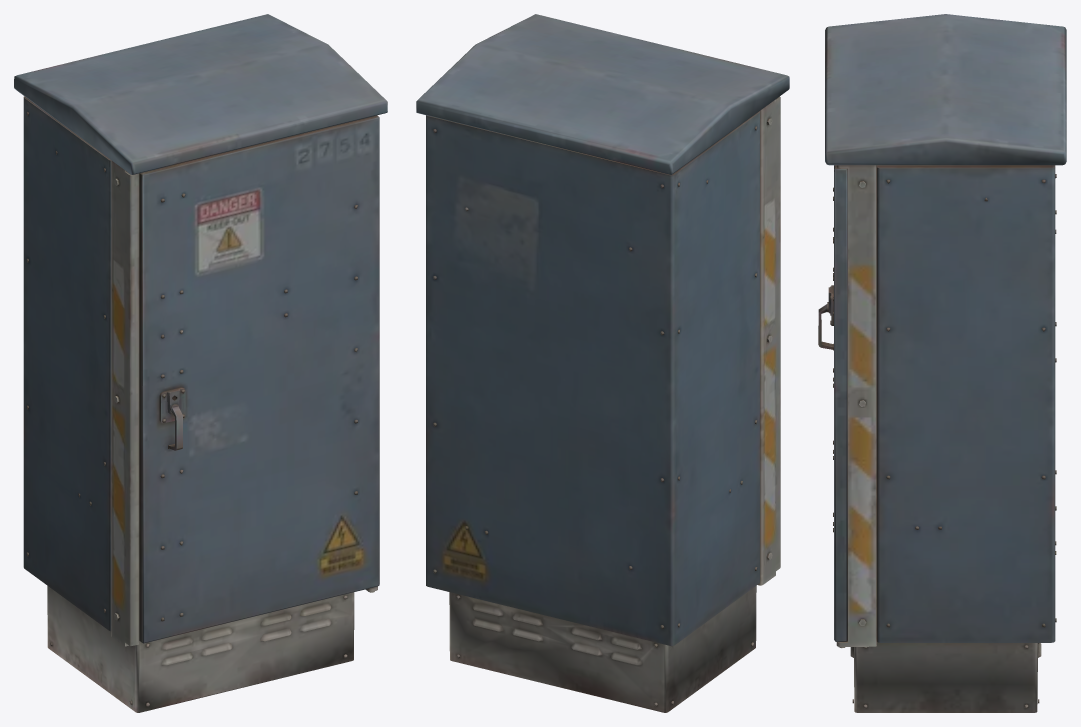
The model's file is utility_box_01.glb.
3 views of the same model, side by side, from view 1: azimuth 30°, elevation 25°; view 2: azimuth 150°, elevation 25°; view 3: azimuth 270°, elevation 25° (orthographic).
Visible parts, largest first — view 1: utility_box_01_box; view 2: utility_box_01_box; view 3: utility_box_01_box.
Part boxes in pixels (<box>): utility_box_01_box: <box>14,14,387,712</box>; utility_box_01_box: <box>416,14,789,712</box>; utility_box_01_box: <box>818,14,1066,712</box>.
Bounding box in the file's own units: 0.52 × 1.12 × 0.4319.
Materials: 1 (1 with a texture image).
